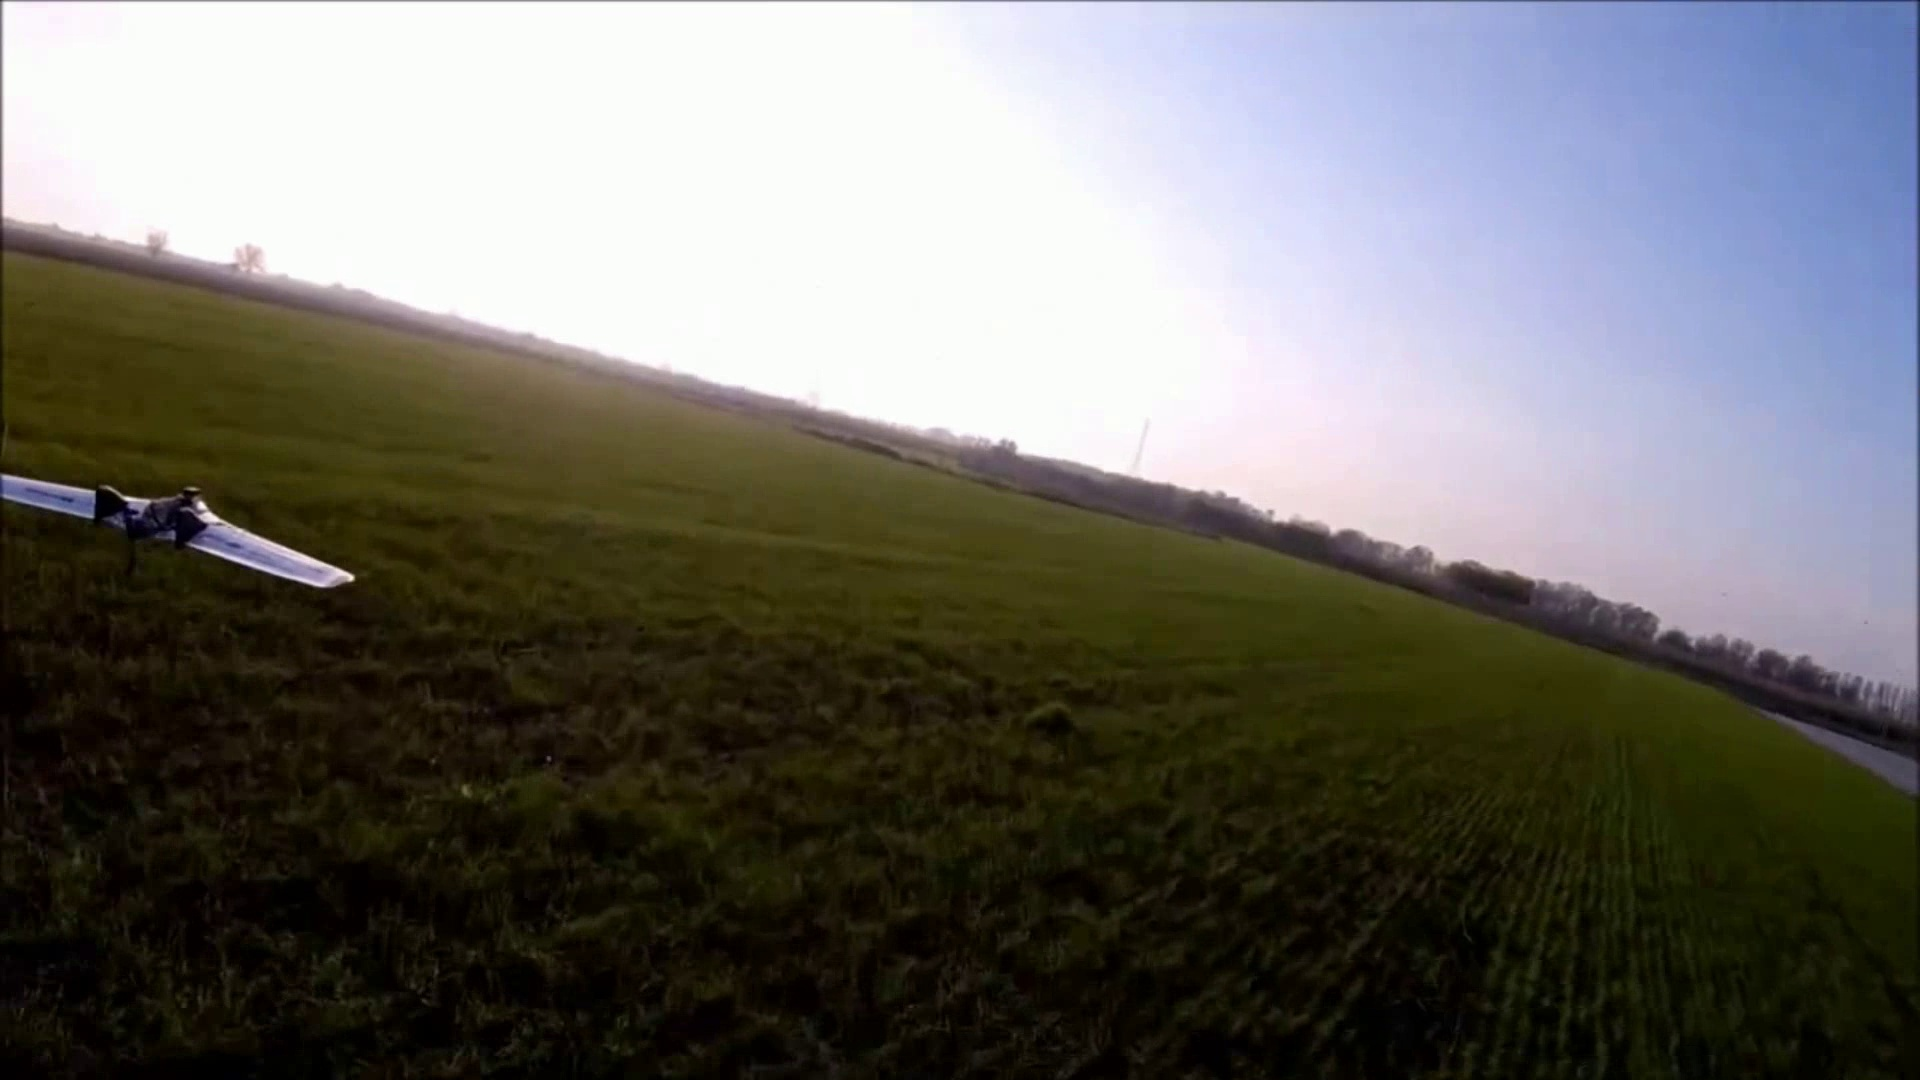airplane: (0, 474, 353, 594)
